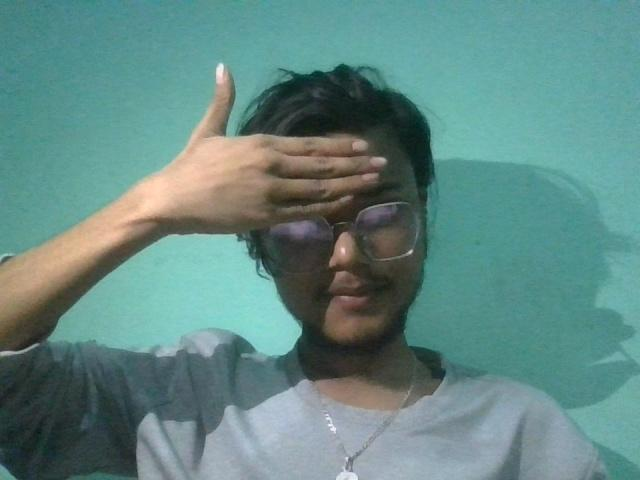forget: (119, 48, 413, 242)
